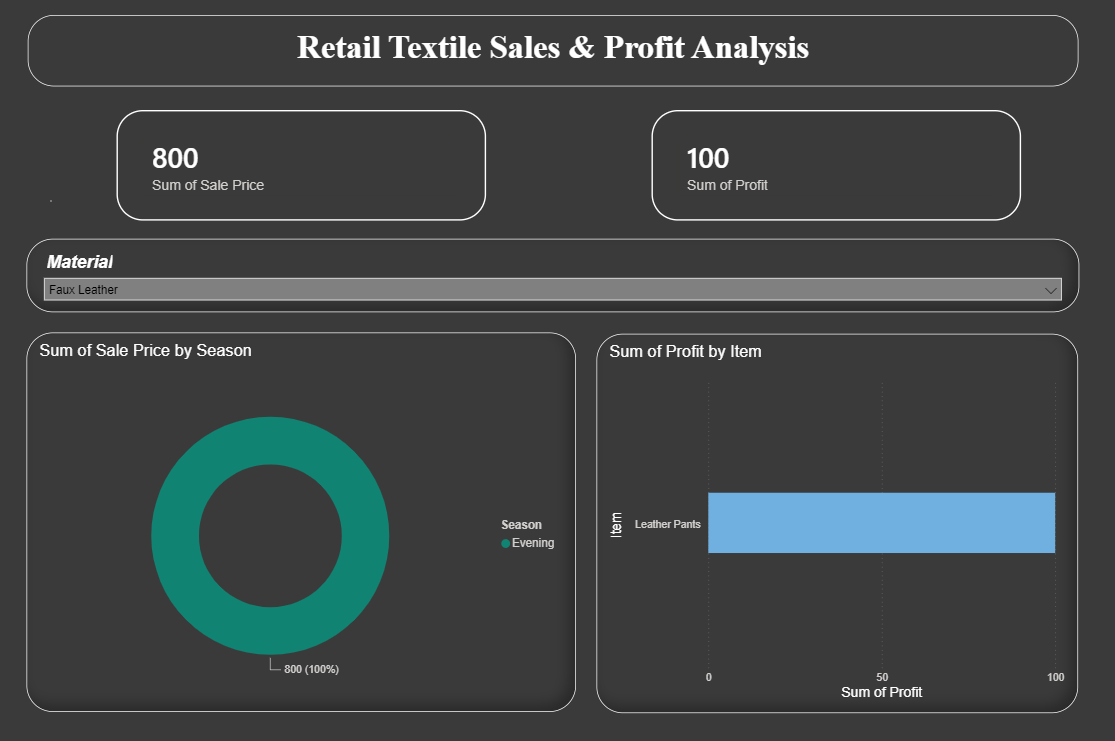

This screenshot's page, from the dashboard's own definition file:
{"tool":"powerbi","page":{"name":"Page 1","canvas":[1280,850],"ordinal":0},"visuals":[{"type":"textbox","box":[32.6,17.4,1201.2,81.4],"z":0},{"type":"cardVisual","fields":{"Data":["Sum(Textile_data2 txt.Sale Price)"]},"box":[133.8,125,422.5,126.2],"z":1000},{"type":"donutChart","fields":{"Category":["Textile_data2 txt.Season"],"Y":["Sum(Textile_data2 txt.Sale Price)"]},"box":[31.4,380,627.9,433.7],"z":3000},{"type":"clusteredBarChart","fields":{"Category":["Textile_data2 txt.Item"],"Y":["Sum(Textile_data2 txt.Profit)"]},"box":[682.9,381.4,550,433.7],"z":4000},{"type":"slicer","fields":{"Values":["Textile_data2 txt.Material"]},"box":[31.4,272.9,1202.9,84.3],"z":4001},{"type":"cardVisual","fields":{"Data":["Sum(Textile_data2 txt.Profit)"]},"box":[746.2,125,422.5,126.2],"z":4002}]}

Visuals, with their boxes in screenshot pixels (x1, y1, x2, y2), scaled from the page's 1280x850 canvas onto the 1115x741 screenshot:
textbox: <box>28,15,1075,86</box>
cardVisual - Sum(Textile_data2 txt.Sale Price): <box>117,109,485,219</box>
donutChart - Textile_data2 txt.Season x Sum(Textile_data2 txt.Sale Price): <box>27,331,574,709</box>
clusteredBarChart - Textile_data2 txt.Item x Sum(Textile_data2 txt.Profit): <box>595,332,1074,711</box>
slicer - Textile_data2 txt.Material: <box>27,238,1075,311</box>
cardVisual - Sum(Textile_data2 txt.Profit): <box>650,109,1018,219</box>
